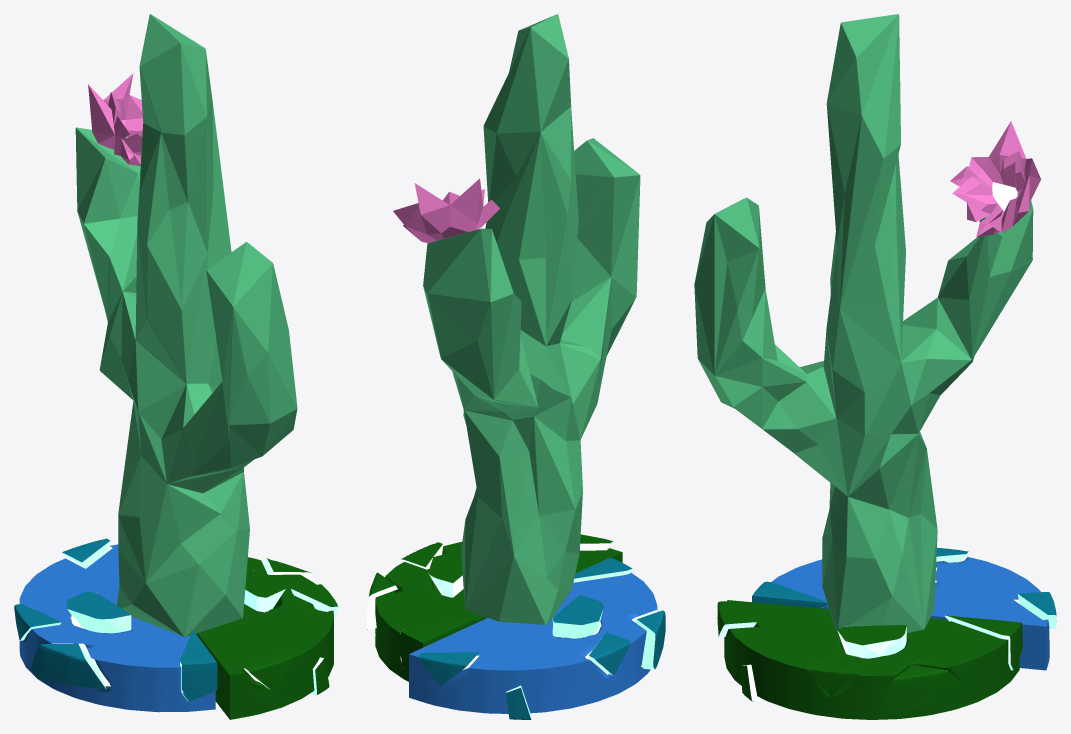
The model's file is cactus green.gltf.
The picture shows the model from 3 angles, left to right: view 1: azimuth 30°, elevation 25°; view 2: azimuth 150°, elevation 25°; view 3: azimuth 270°, elevation 25°; orthographic projection.
Parts seen in each view (by area): view 1: Cube.001; view 2: Cube.001; view 3: Cube.001.
Boxes of the visible parts, box(x1,y1,x2,y2) form: Cube.001: box(14, 14, 338, 719); Cube.001: box(367, 14, 665, 719); Cube.001: box(694, 14, 1056, 719).
Bounding box in the file's own units: 2.71 × 5.88 × 3.03.
